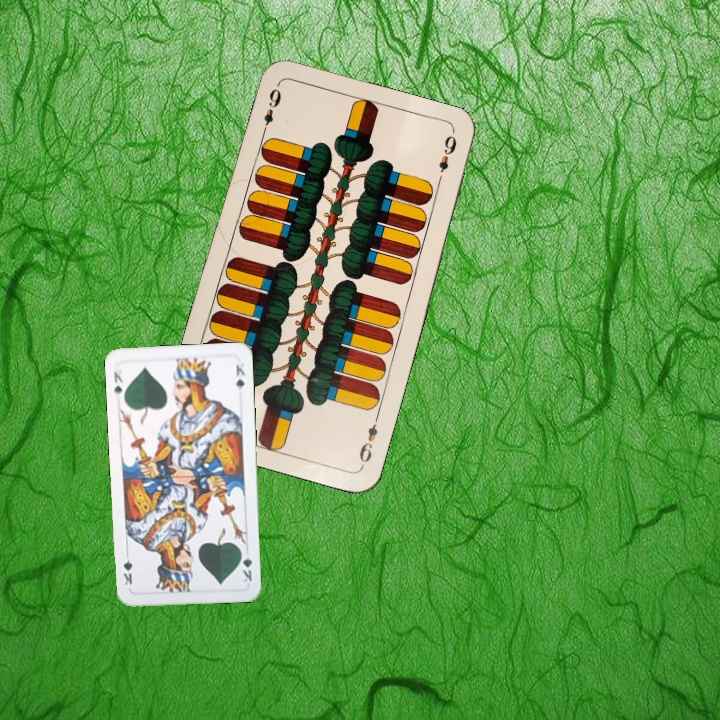E9: (355, 411, 382, 469), (257, 84, 284, 140)
GK: (237, 545, 255, 585), (110, 367, 125, 400)
